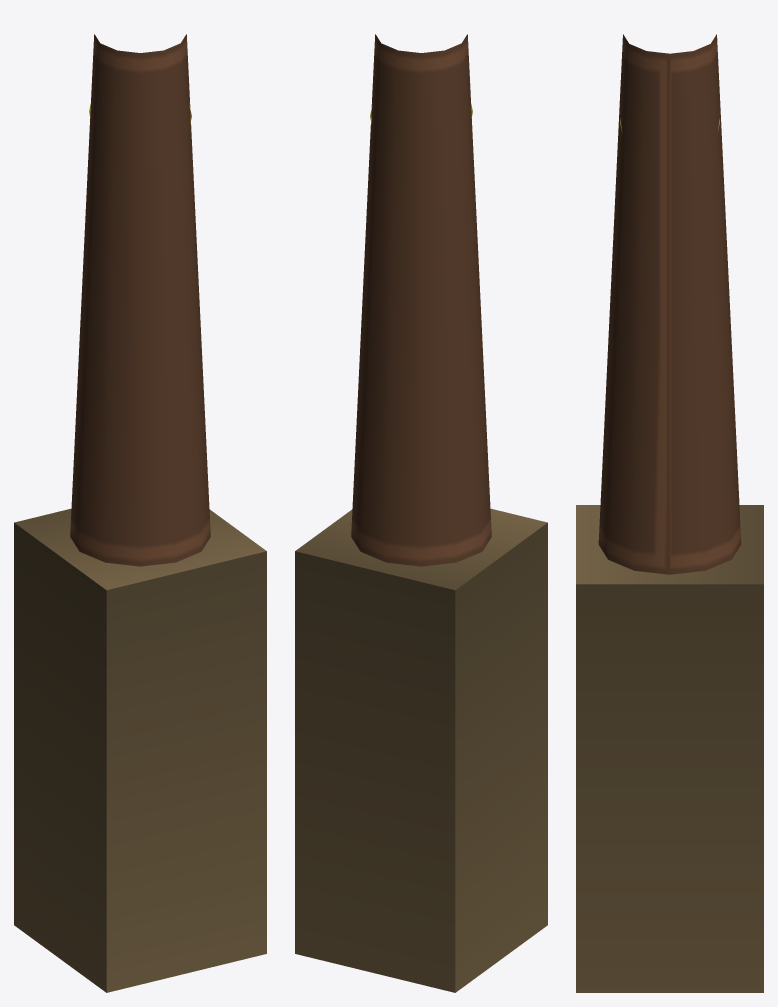
File: harmonic_pullrope.glb
The picture shows the model from 3 angles, left to right: view 1: azimuth 30°, elevation 25°; view 2: azimuth 150°, elevation 25°; view 3: azimuth 270°, elevation 25°; orthographic projection.
Visible parts, largest first — view 1: harmonic_pullrope; view 2: harmonic_pullrope; view 3: harmonic_pullrope.
Boxes of the visible parts, x1=… form: harmonic_pullrope: x1=14, y1=34, x2=266, y2=992; harmonic_pullrope: x1=295, y1=34, x2=547, y2=992; harmonic_pullrope: x1=576, y1=34, x2=763, y2=992.
Bounding box in the file's own units: 0.4 × 2.16 × 0.4.
1 material, 1 textured.
